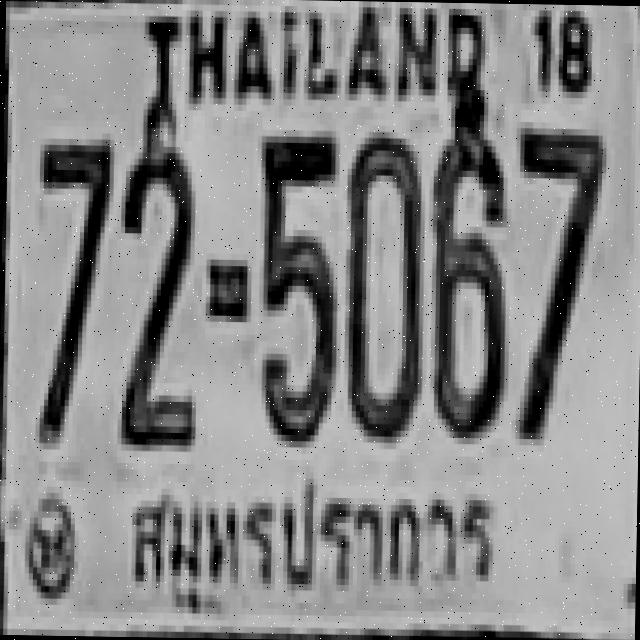0: (341, 128, 424, 434)
2: (115, 142, 194, 442)
5: (252, 130, 336, 442)
6: (426, 126, 506, 432)
7: (512, 122, 602, 434), (33, 134, 112, 440), (512, 122, 602, 340)
SamutPrakan: (118, 469, 504, 625)
